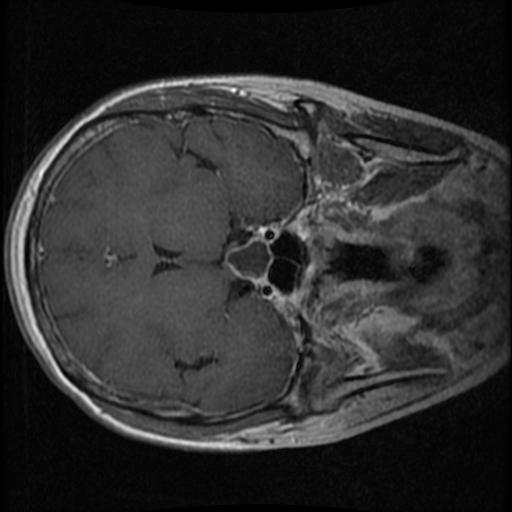pituitary tumour: (220, 235, 272, 286)
